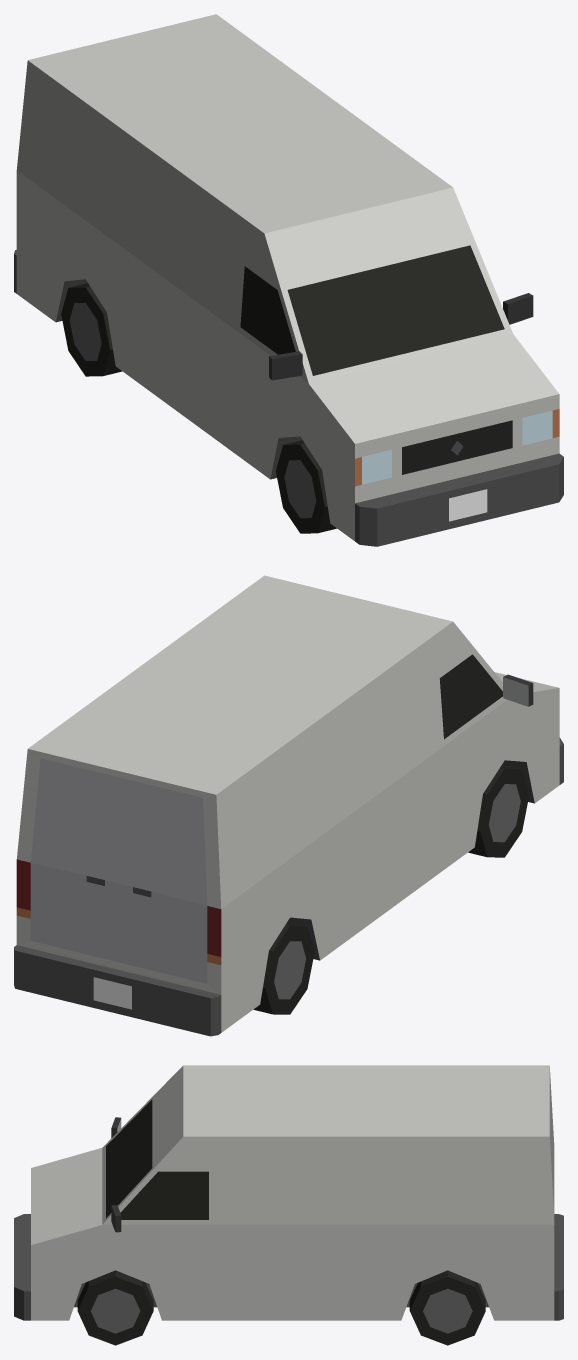
File: Veh_Van_03_White.obj
3 renders of one model, top to bottom at view 1: azimuth 30°, elevation 25°; view 2: azimuth 150°, elevation 25°; view 3: azimuth 270°, elevation 25°, orthographic. The views are drawn at different scales.
Bounding box in the file's own units: 1.41 × 1.37 × 3.31.
